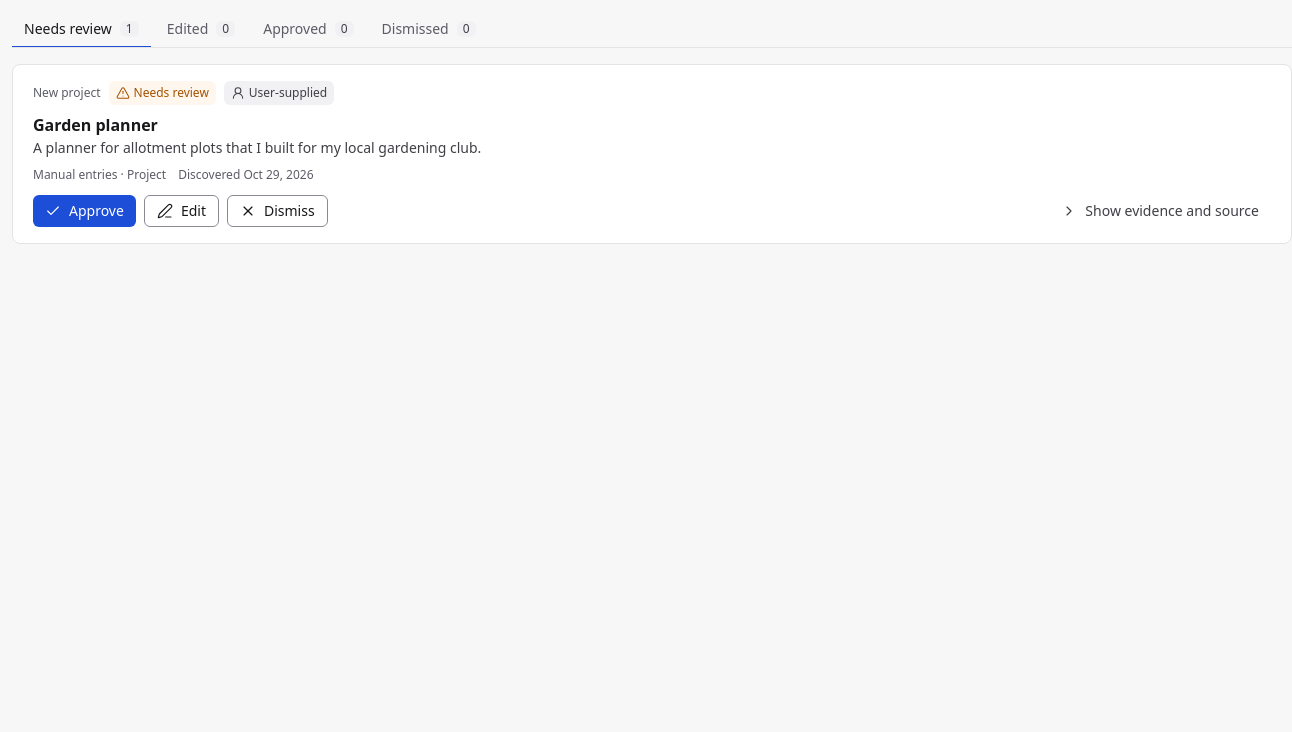
Test: ReviewQueue (T5.1–T5.6) › shows no success message when saving fails
Step 1. Click the button with aria-label "Approve “" → {"x": 84, "y": 211}, box left=33, top=195, right=136, bottom=227
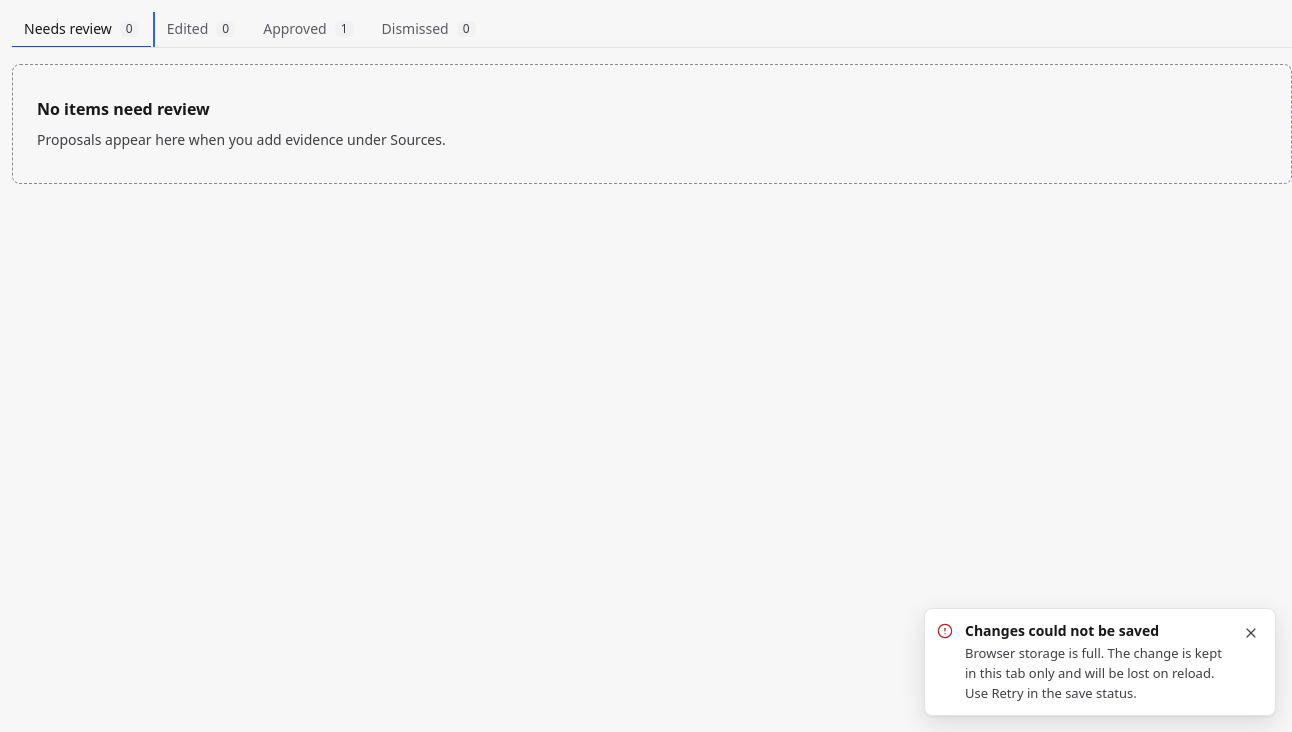
Expected: the text "Changes could not be saved" is shown, left=965, top=621, right=1159, bottom=640
